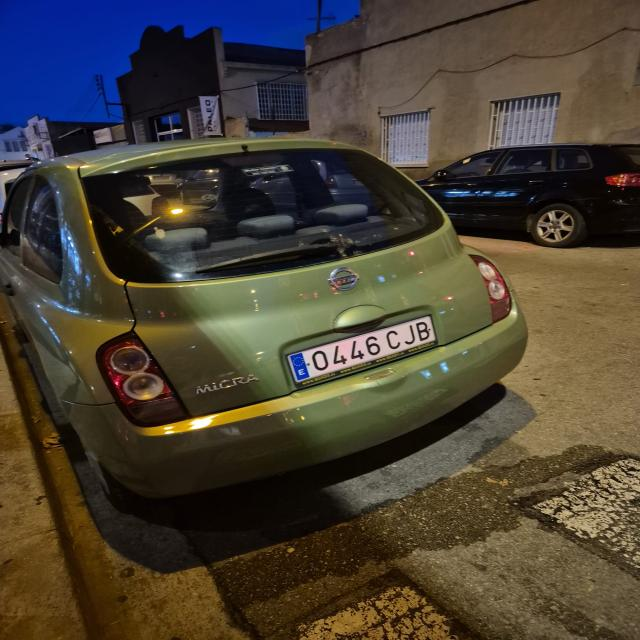license_plate-34Td: (288, 316, 436, 384)
